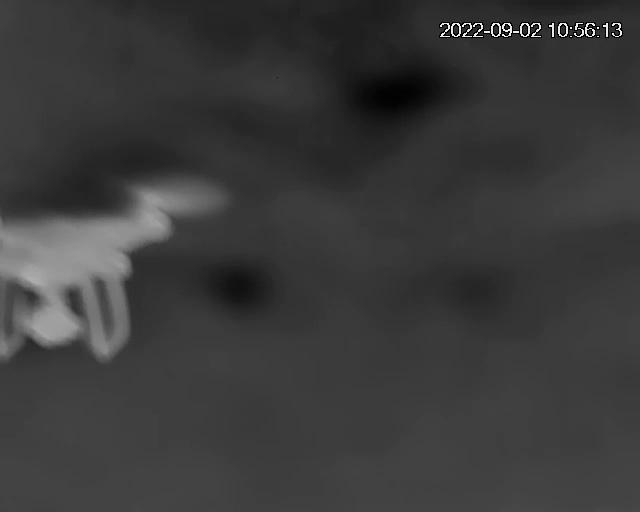DJI-Phantom: (2, 176, 174, 362)
